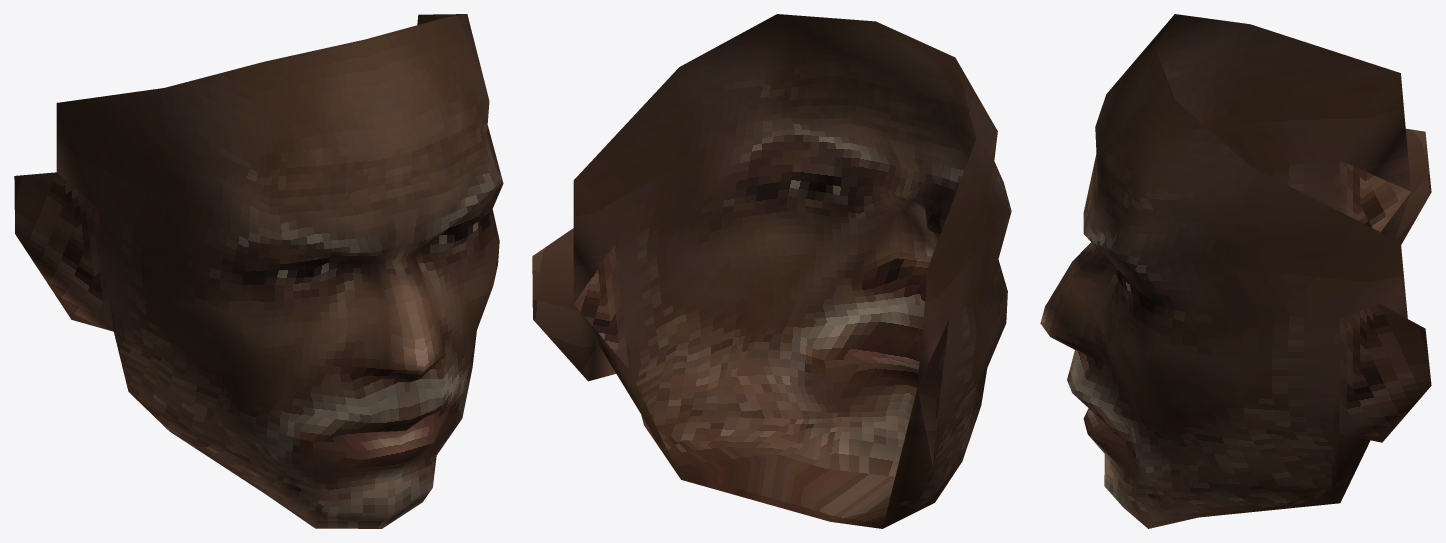
3 renders of one model, left to right at view 1: azimuth 30°, elevation 25°; view 2: azimuth 150°, elevation 25°; view 3: azimuth 270°, elevation 25°, orthographic. The views are drawn at different scales.
Visible parts, largest first — view 1: editpl_m-0000-128, editpl_m-0000-127; view 2: editpl_m-0000-128, editpl_m-0000-127; view 3: editpl_m-0000-128, editpl_m-0000-127.
Part boxes in pixels (x1=…): editpl_m-0000-128: x1=14, y1=14, x2=503, y2=383; editpl_m-0000-127: x1=114, y1=331, x2=476, y2=528; editpl_m-0000-128: x1=532, y1=14, x2=1011, y2=464; editpl_m-0000-127: x1=574, y1=258, x2=987, y2=528; editpl_m-0000-128: x1=1040, y1=14, x2=1431, y2=442; editpl_m-0000-127: x1=1040, y1=192, x2=1410, y2=528.
Size of the model in its own units: 17.18 by 18.64 by 14.42.
Materials: 1 (1 with a texture image).
